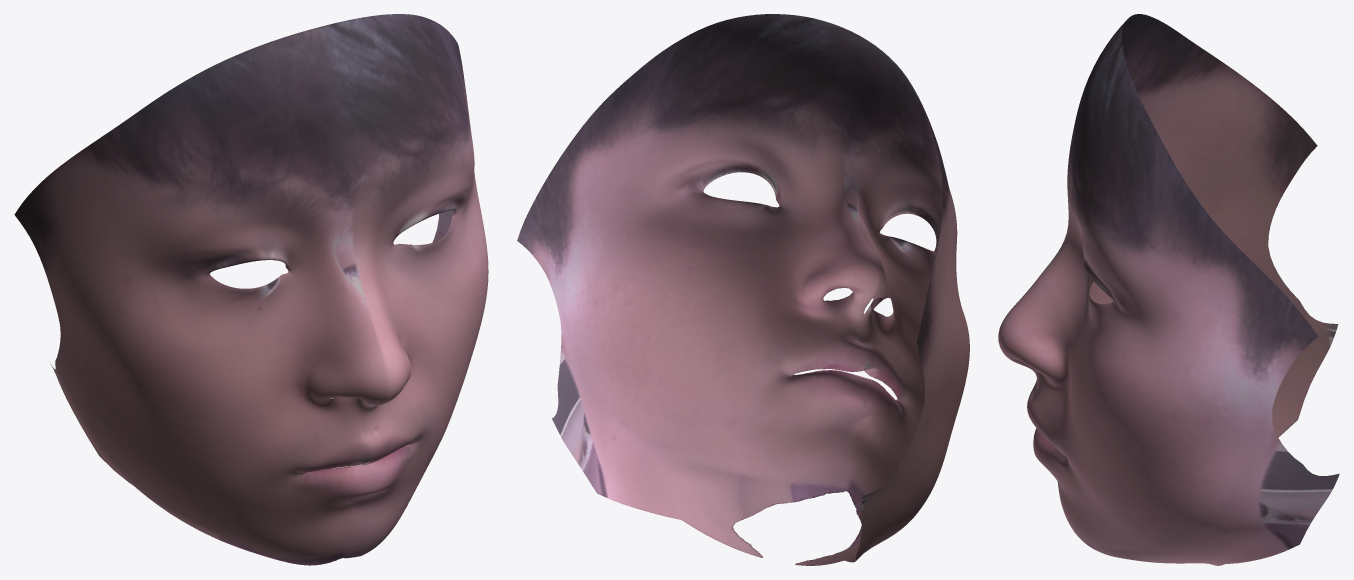
The model's file is example.fbx.
3 renders of one model, left to right at view 1: azimuth 30°, elevation 25°; view 2: azimuth 150°, elevation 25°; view 3: azimuth 270°, elevation 25°, orthographic. The views are drawn at different scales.
Visible parts, largest first — view 1: FBHead; view 2: FBHead; view 3: FBHead.
Part boxes in pixels (x1=…): FBHead: x1=14, y1=14, x2=488, y2=565; FBHead: x1=517, y1=14, x2=969, y2=565; FBHead: x1=998, y1=14, x2=1339, y2=565.
Bounding box in the file's own units: 137 × 167 × 101.
1 material, 1 textured.
